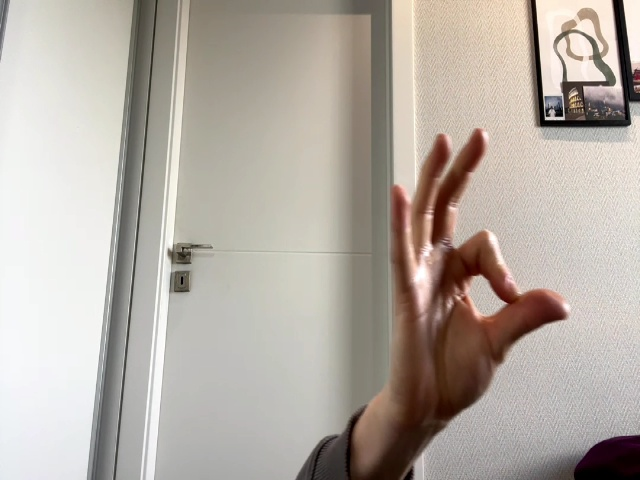S: (389, 128, 571, 426)
